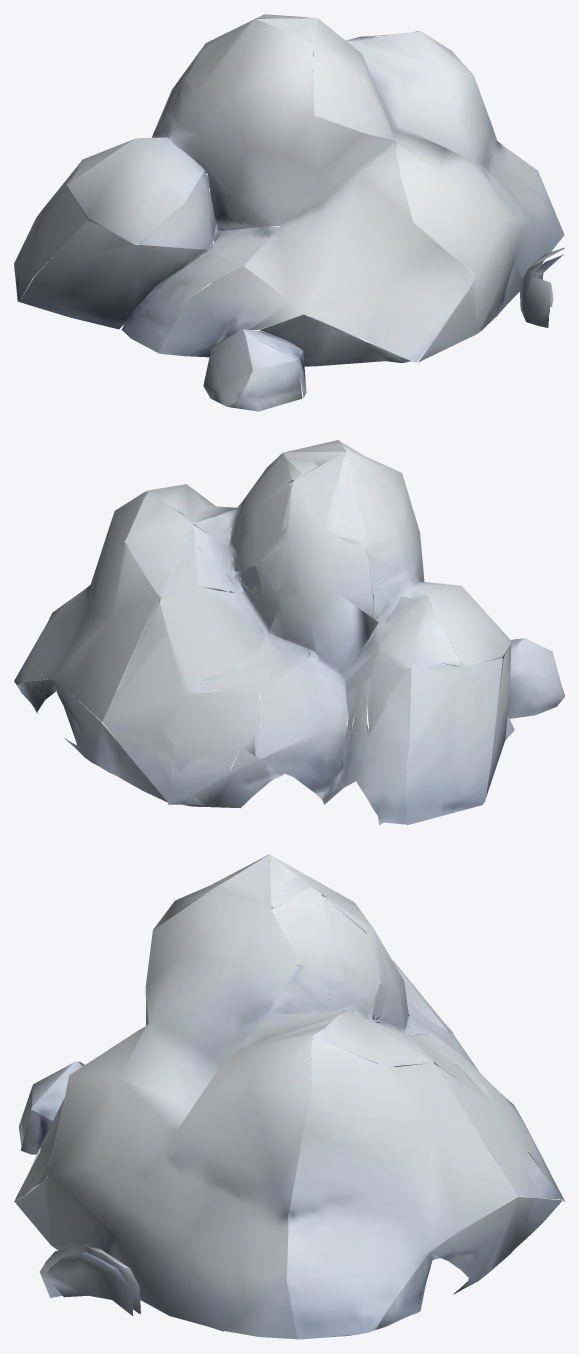
File: snowpile_gen_c.glb
The picture shows the model from 3 angles, top to bottom: view 1: azimuth 30°, elevation 25°; view 2: azimuth 150°, elevation 25°; view 3: azimuth 270°, elevation 25°; orthographic projection. The views are drawn at different scales.
Visible parts, largest first — view 1: snowpile_gen.002; view 2: snowpile_gen.002; view 3: snowpile_gen.002.
Part boxes in pixels (left/top/right/bottom): snowpile_gen.002: left=14, top=14, right=564, bottom=411; snowpile_gen.002: left=14, top=440, right=564, bottom=825; snowpile_gen.002: left=14, top=854, right=564, bottom=1339.
Size of the model in its own units: 2.68 by 1.5 by 2.25.
Materials: 1 (1 with a texture image).
